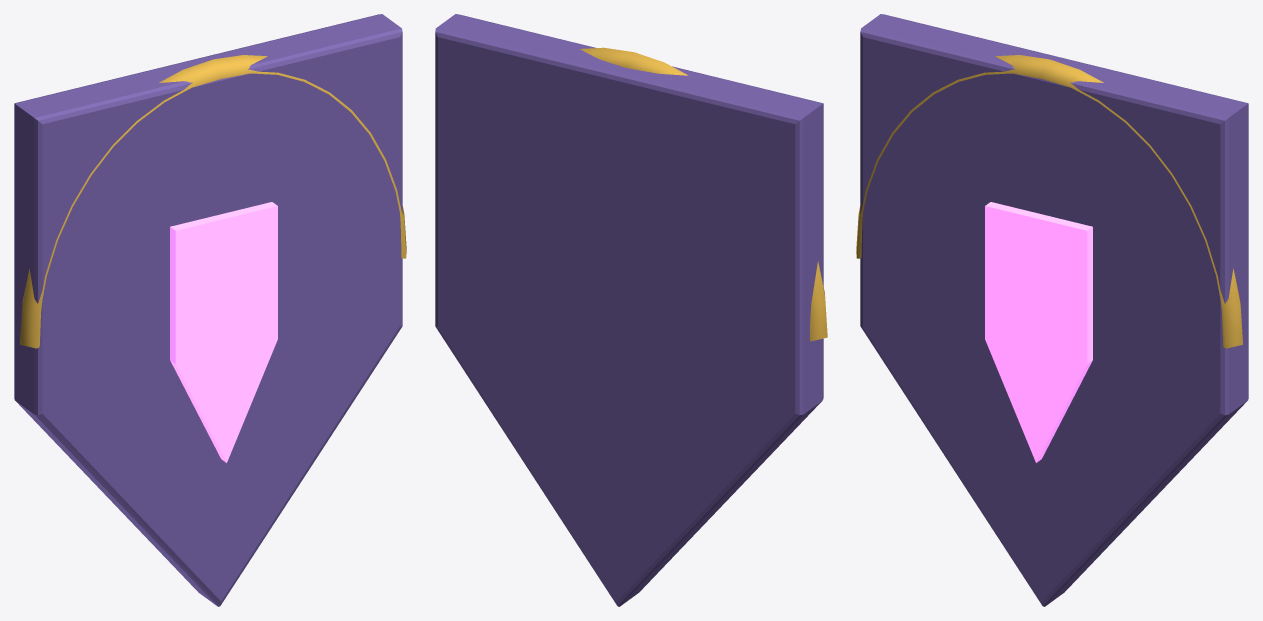
File: shield_kite_t3.glb
3 views of the same model, side by side, from view 1: azimuth 30°, elevation 25°; view 2: azimuth 150°, elevation 25°; view 3: azimuth 330°, elevation 25° (orthographic).
Visible parts, largest first — view 1: m0_ow90_, m1_gm120_, m2_ow90_; view 2: m0_ow90_, m2_ow90_; view 3: m0_ow90_, m1_gm120_, m2_ow90_.
Part boxes in pixels (<box>): m0_ow90_: <box>14,14,402,606</box>; m1_gm120_: <box>170,202,277,462</box>; m2_ow90_: <box>20,55,406,348</box>; m0_ow90_: <box>435,14,823,606</box>; m2_ow90_: <box>580,47,827,341</box>; m0_ow90_: <box>860,14,1248,606</box>; m1_gm120_: <box>985,202,1092,462</box>; m2_ow90_: <box>856,55,1242,348</box>.
Size of the model in its own units: 0.9095 by 1.22 by 0.127.
